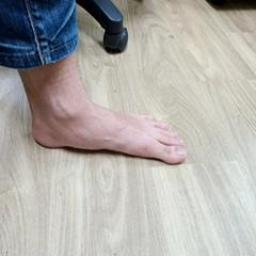Medial View -Left Foot-: (13, 68, 205, 185)
